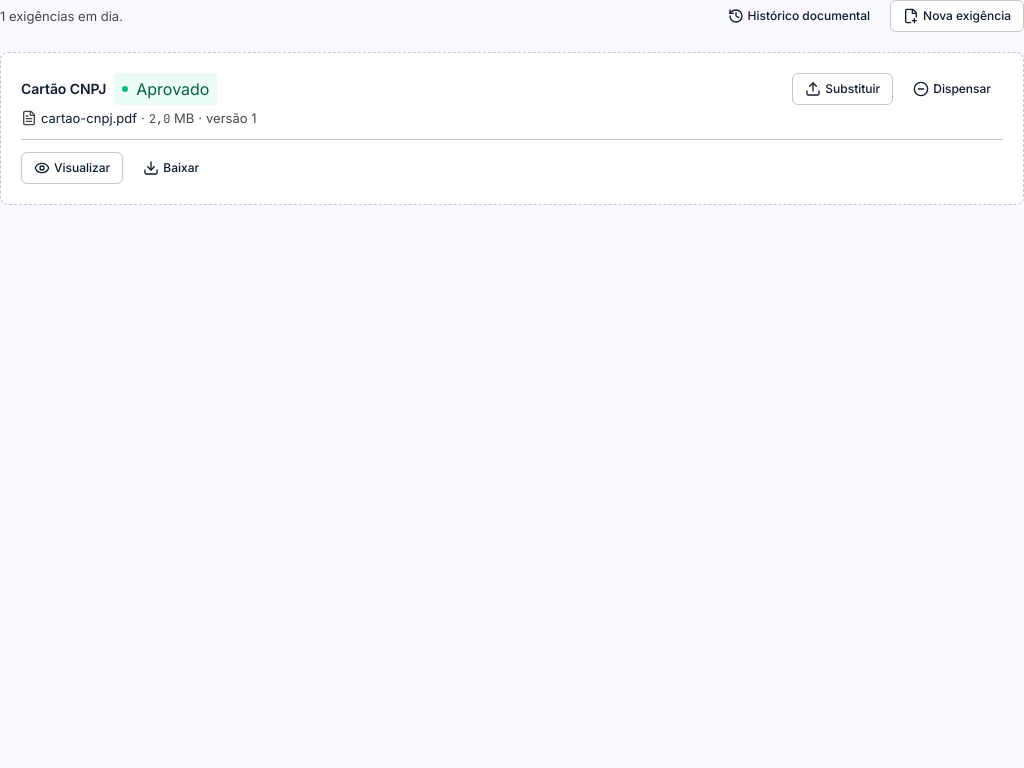
Test case: envio de arquivo (§2.3) › avisa que substituir arquiva a versão atual
Click the button "Substituir": [843, 89] box left=792, top=73, right=893, bottom=105
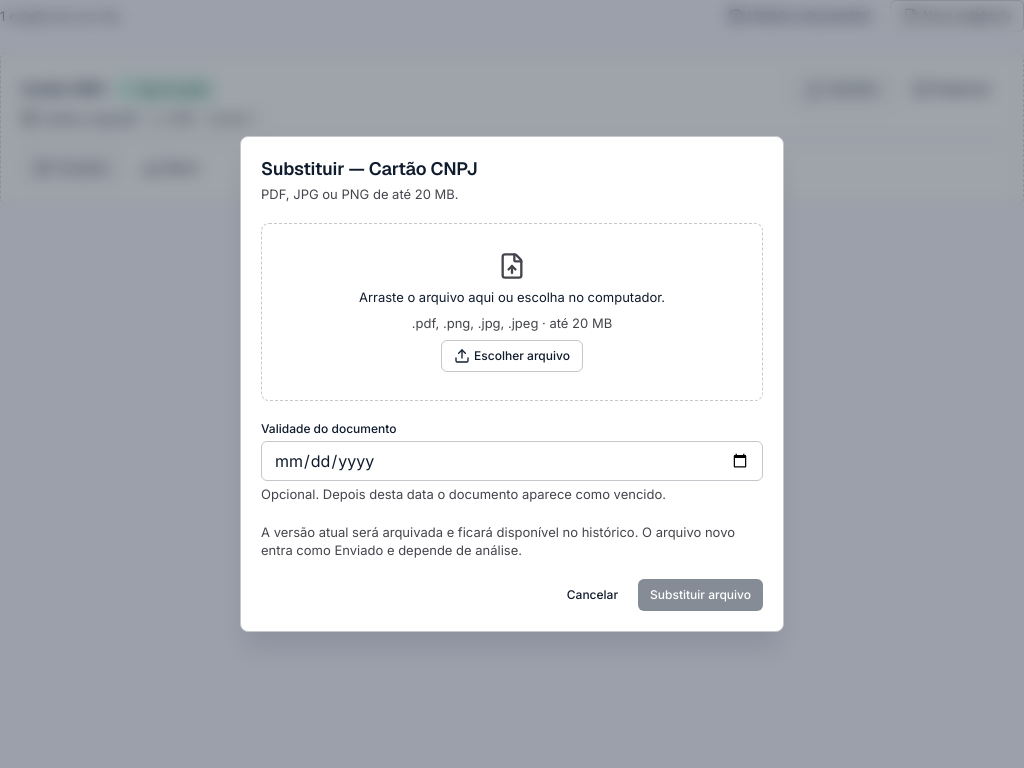
expect the dialog shows "será arquivada": met, box left=261, top=524, right=735, bottom=558
